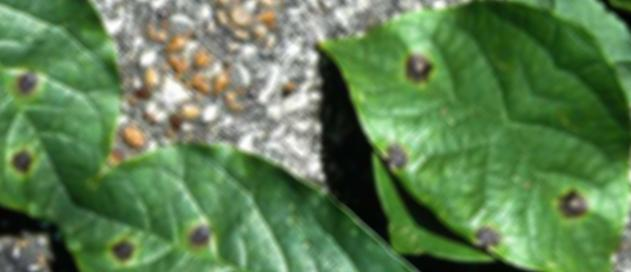Tomato leaf bacterial spot: (10, 65, 401, 272), (265, 0, 596, 225)
